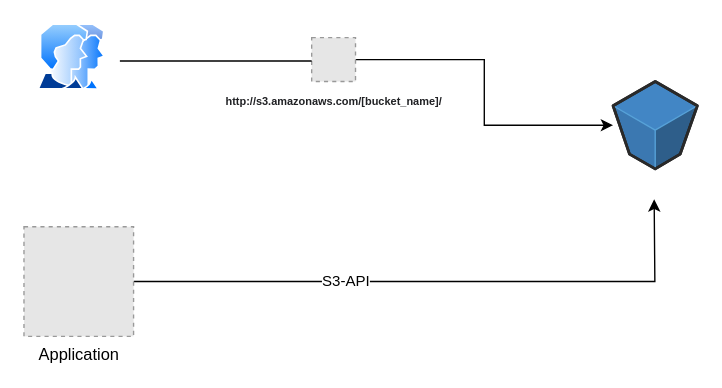
Some shapes in this 722 by 388 pixel diagram are drawn without their labels. Grey dashed boxes stand in for pictures. The shapes that lost their labels are listed below. From the top down, each one's box as (x1, y1, x2, y2) in pixels, then its label:
(37, 23, 105, 90): User account
(612, 80, 697, 169): S3-Bucket
